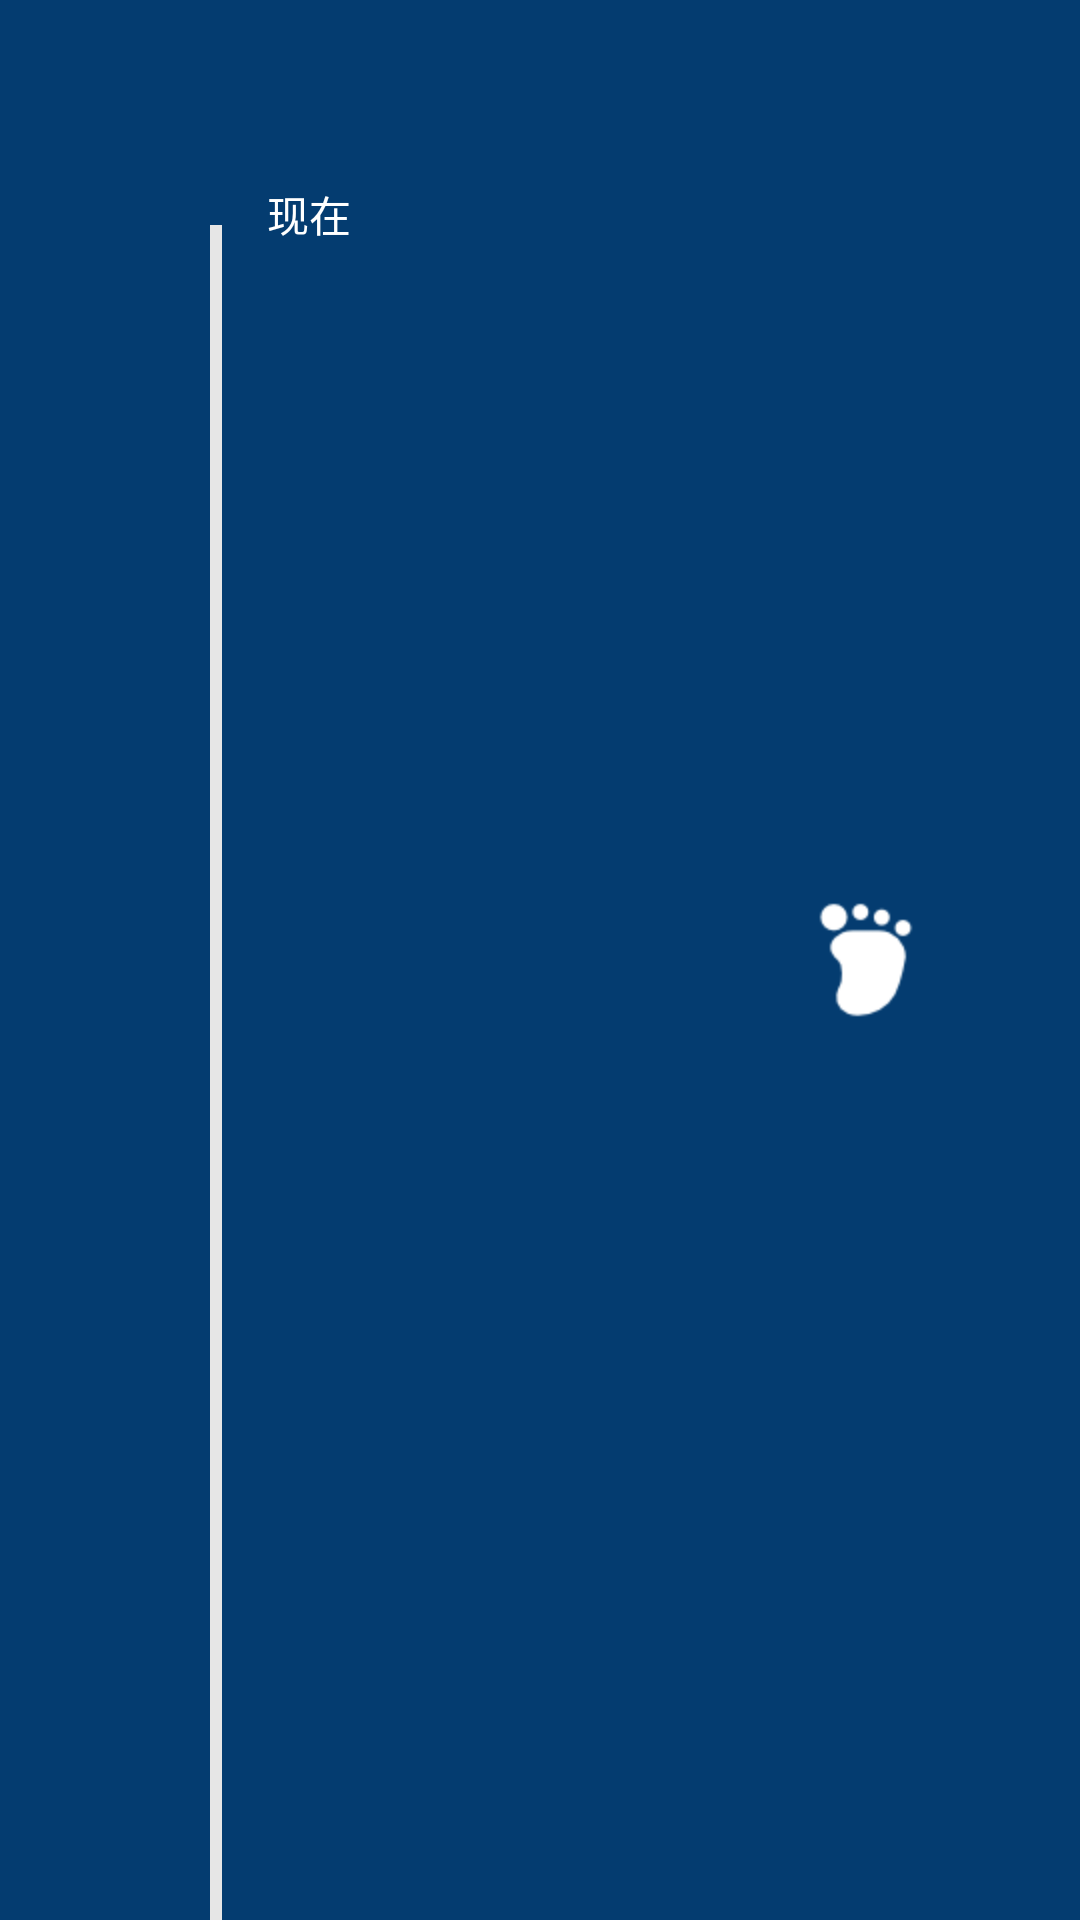

Screen size 1080*1920. Icon name, then its box in pixels as (x1, y1, x2, y2):
iconfont zuji: (819, 903, 912, 1017)
